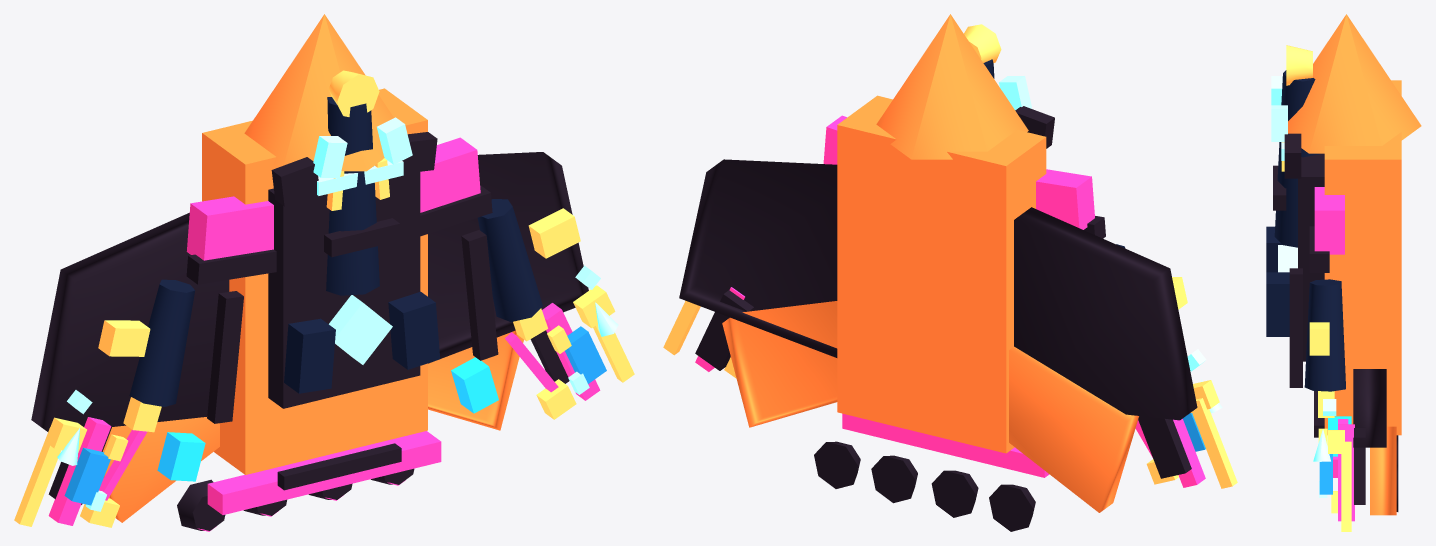
The model's file is boss-02.glb.
3 renders of one model, left to right at view 1: azimuth 30°, elevation 25°; view 2: azimuth 150°, elevation 25°; view 3: azimuth 270°, elevation 25°, orthographic. The views are drawn at different scales.
Parts seen in each view (by area): view 1: heavy_center_vault, left_fortress_shoulder, upper_armor_cap, right_fortress_shoulder, blunt_nose_ram, center_siege_cannon, rear_reactor_crossbeam, left_broadside_turret, right_broadside_turret, left_hangar_mouth, left_lower_slab, right_lower_slab (+34 smaller); view 2: heavy_center_vault, left_fortress_shoulder, right_fortress_shoulder, left_lower_slab, blunt_nose_ram, right_lower_slab, rear_reactor_crossbeam, left_hangar_mouth, left_interceptor_bay_floor, engine_nozzle_-0.58, engine_nozzle_-0.20, engine_nozzle_0.20 (+8 smaller); view 3: heavy_center_vault, blunt_nose_ram, right_broadside_turret, upper_armor_cap, right_fortress_shoulder, center_siege_cannon, right_lower_slab, right_hangar_mouth, right_deck_black_laminate, right_deck_command_tower, right_deck_warning_strip, siege_cannon_hot_core (+17 smaller).
Boxes of the visible parts, left/top/right/bottom form: heavy_center_vault: left=202, top=88, right=427, bottom=474; left_fortress_shoulder: left=31, top=213, right=229, bottom=431; upper_armor_cap: left=268, top=171, right=420, bottom=408; right_fortress_shoulder: left=428, top=152, right=588, bottom=363; blunt_nose_ram: left=244, top=14, right=393, bottom=171; center_siege_cannon: left=326, top=97, right=379, bottom=295; rear_reactor_crossbeam: left=207, top=431, right=441, bottom=514; left_broadside_turret: left=129, top=279, right=195, bottom=406; right_broadside_turret: left=477, top=199, right=542, bottom=321; left_hangar_mouth: left=186, top=196, right=273, bottom=260; left_lower_slab: left=102, top=417, right=219, bottom=522; right_lower_slab: left=428, top=330, right=523, bottom=430; heavy_center_vault: left=837, top=95, right=1046, bottom=453; left_fortress_shoulder: left=1014, top=207, right=1197, bottom=420; right_fortress_shoulder: left=679, top=159, right=837, bottom=357; left_lower_slab: left=1009, top=346, right=1138, bottom=512; blunt_nose_ram: left=876, top=14, right=1028, bottom=159; right_lower_slab: left=722, top=301, right=837, bottom=427; rear_reactor_crossbeam: left=842, top=413, right=1049, bottom=477; left_hangar_mouth: left=1036, top=169, right=1094, bottom=229; left_interceptor_bay_floor: left=1138, top=416, right=1191, bottom=478; engine_nozzle_-0.58: left=989, top=484, right=1035, bottom=531; engine_nozzle_-0.20: left=931, top=470, right=978, bottom=517; engine_nozzle_0.20: left=871, top=455, right=917, bottom=503; heavy_center_vault: left=1324, top=80, right=1401, bottom=435; blunt_nose_ram: left=1288, top=14, right=1421, bottom=153; right_broadside_turret: left=1304, top=279, right=1345, bottom=391; upper_armor_cap: left=1298, top=153, right=1324, bottom=361; right_fortress_shoulder: left=1353, top=369, right=1386, bottom=447; center_siege_cannon: left=1274, top=70, right=1319, bottom=247; right_lower_slab: left=1370, top=426, right=1396, bottom=515; right_hangar_mouth: left=1314, top=187, right=1344, bottom=254; right_deck_black_laminate: left=1289, top=268, right=1302, bottom=387; right_deck_command_tower: left=1266, top=272, right=1289, bottom=336; right_deck_warning_strip: left=1341, top=441, right=1351, bottom=531; siege_cannon_hot_core: left=1286, top=45, right=1312, bottom=85.
Size of the model in its own units: 3.77 by 3.02 by 0.93.
